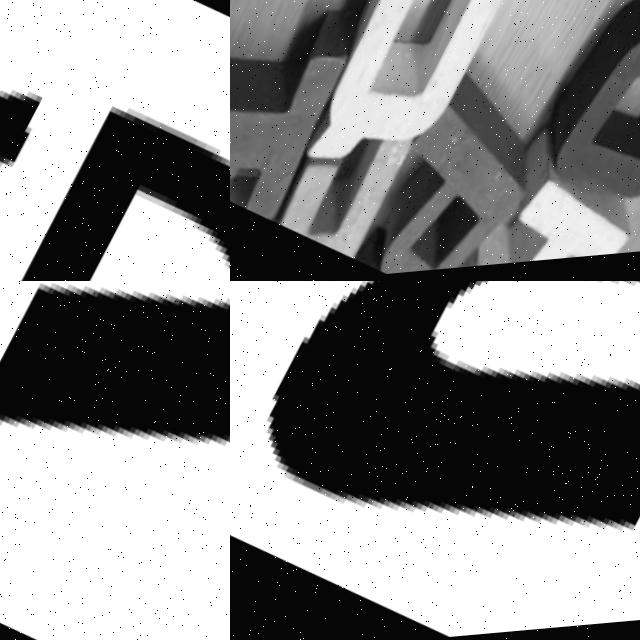E: (23, 109, 230, 281)
H: (441, 150, 640, 274)
I: (230, 0, 381, 235)
L: (0, 281, 230, 640)
O: (533, 0, 640, 237)
Q: (284, 0, 552, 216)
U: (235, 281, 640, 640)
